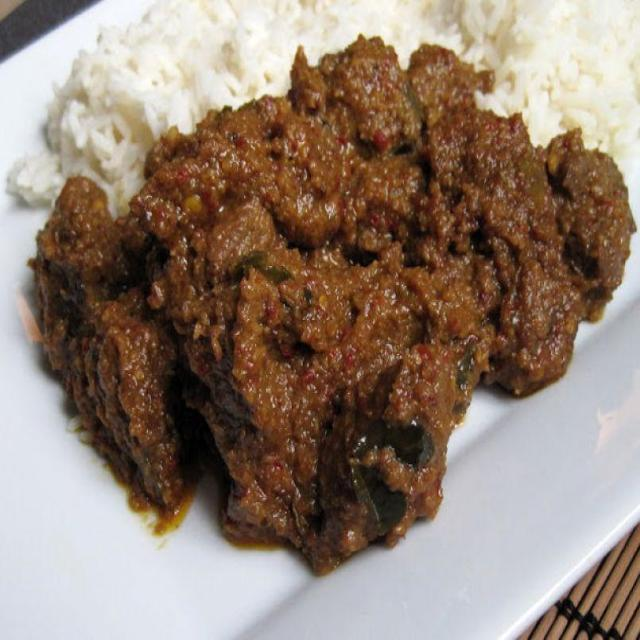Rendang: (22, 94, 640, 564)
